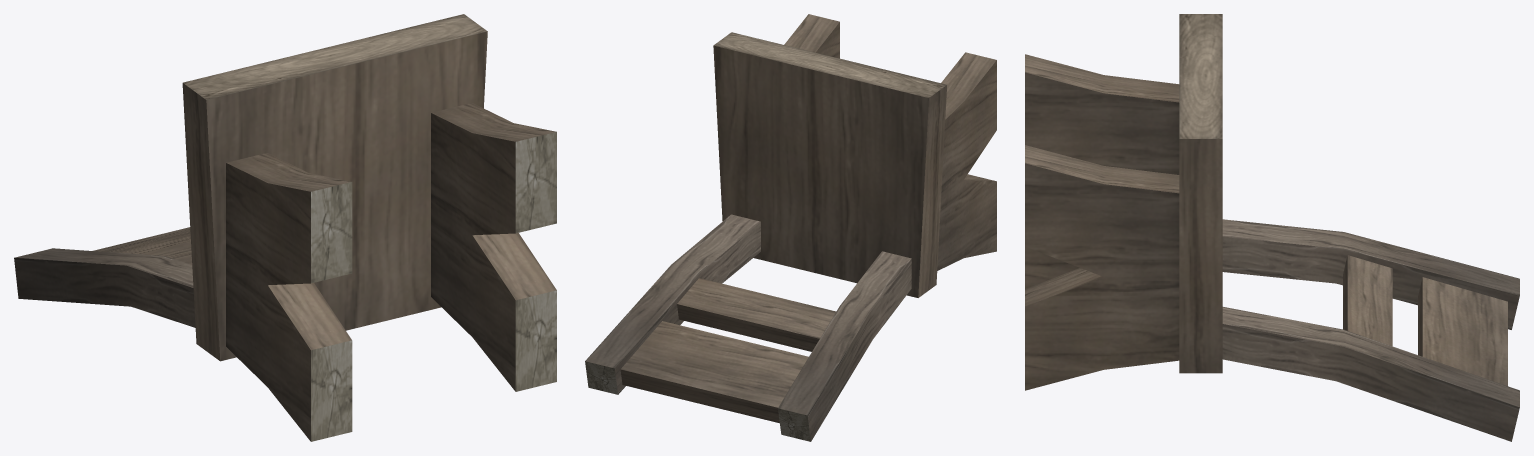
The model's file is Chair_A.fbx.
3 views of the same model, side by side, from view 1: azimuth 30°, elevation 25°; view 2: azimuth 150°, elevation 25°; view 3: azimuth 270°, elevation 25° (orthographic). The views are drawn at different scales.
Parts seen in each view (by area): view 1: Chair_A; view 2: Chair_A; view 3: Chair_A.
Part boxes in pixels (x1,y1,x2,y2): Chair_A: [14, 14, 556, 441]; Chair_A: [585, 14, 996, 441]; Chair_A: [1025, 14, 1519, 441].
Size of the model in its own units: 0.7546 by 0.8221 by 1.22.
